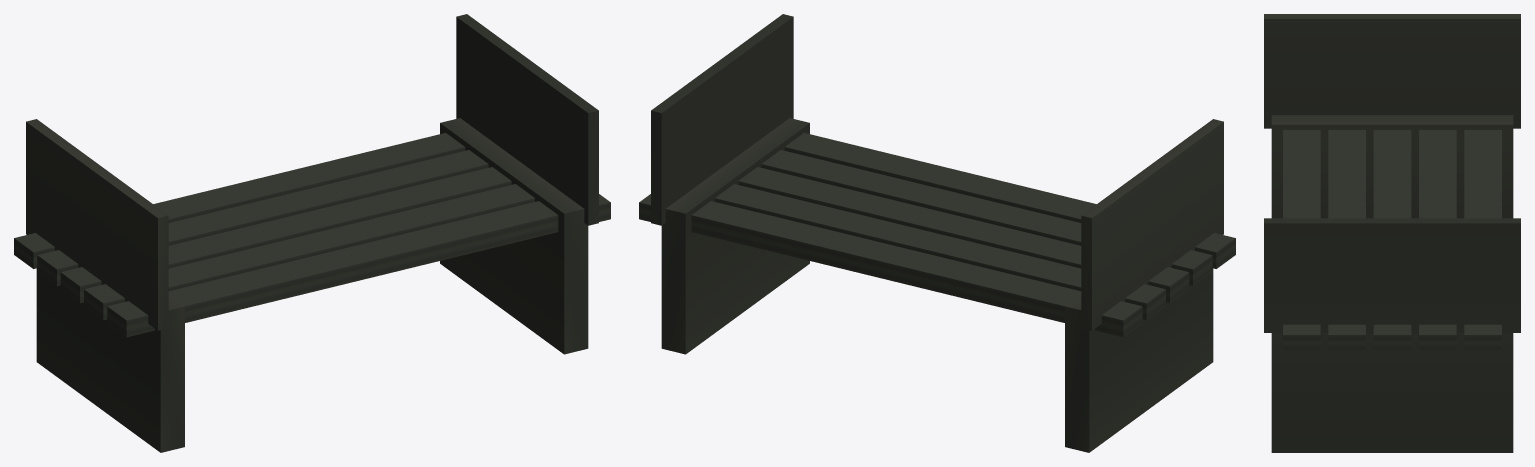
Rendered from env_floor_grating_4m.glb.
3 views of the same model, side by side, from view 1: azimuth 30°, elevation 25°; view 2: azimuth 150°, elevation 25°; view 3: azimuth 270°, elevation 25° (orthographic). The views are drawn at different scales.
Parts seen in each view (by area): view 1: env_floor_grating_4m; view 2: env_floor_grating_4m; view 3: env_floor_grating_4m.
Part boxes in pixels (left/top/right/bottom): env_floor_grating_4m: left=14, top=14, right=610, bottom=452; env_floor_grating_4m: left=639, top=14, right=1235, bottom=452; env_floor_grating_4m: left=1264, top=14, right=1520, bottom=452.
Size of the model in its own units: 3.6 by 1.7 by 1.7.
1 material, 1 textured.
